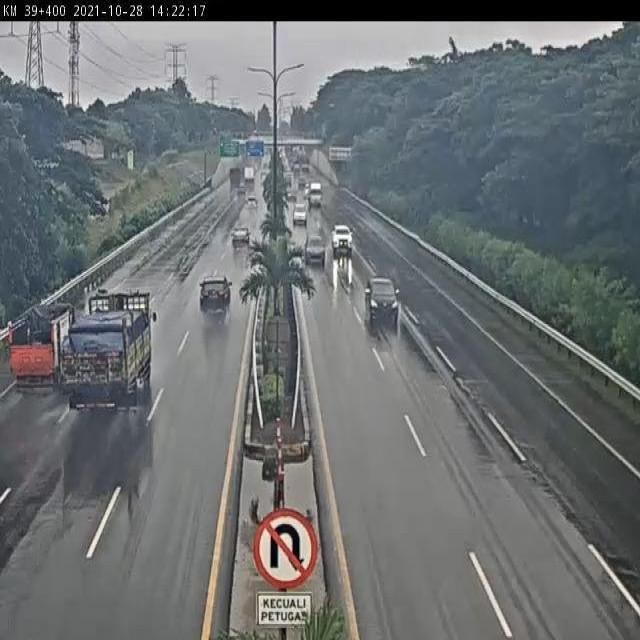car: (362, 275, 401, 328), (199, 272, 232, 316)
truck: (61, 290, 151, 418), (5, 295, 75, 393)
